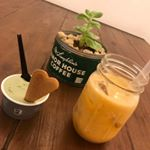cups: (1, 70, 56, 123)
other: (71, 52, 149, 146)
